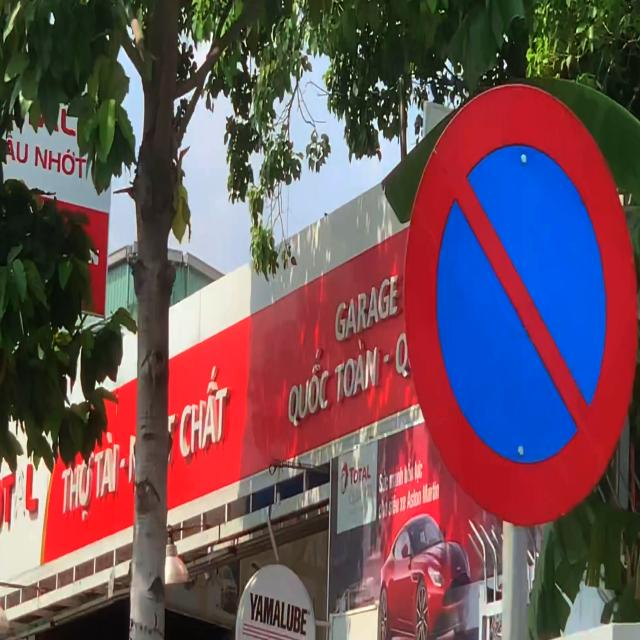Cam do: (399, 61, 640, 532)
